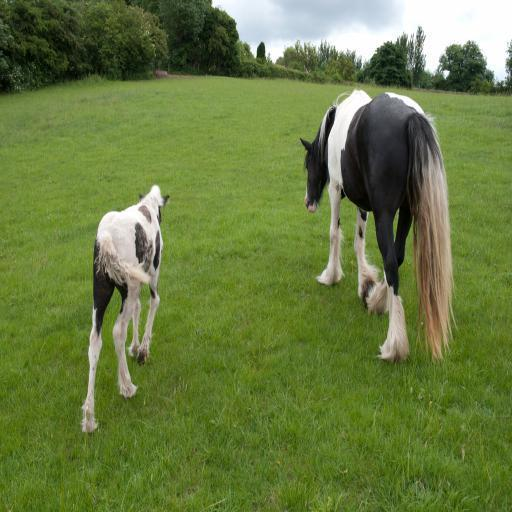horse: (299, 92, 459, 365), (81, 184, 171, 432)
